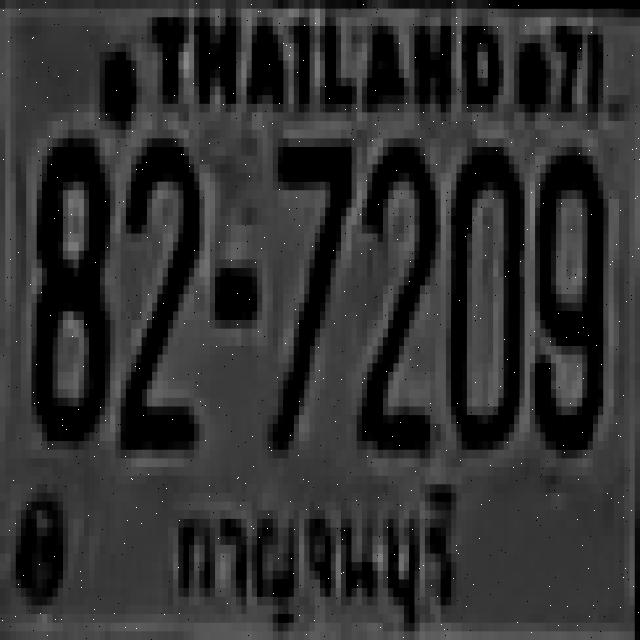0: (446, 138, 520, 440)
2: (118, 134, 196, 446), (357, 138, 435, 450), (118, 134, 196, 428)
7: (268, 134, 346, 446)
8: (26, 130, 104, 432)
9: (532, 138, 600, 440)
Kanchanaburi: (157, 475, 477, 640)
